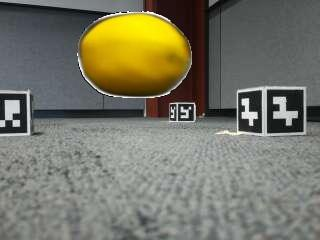lemon: (80, 13, 190, 95)
